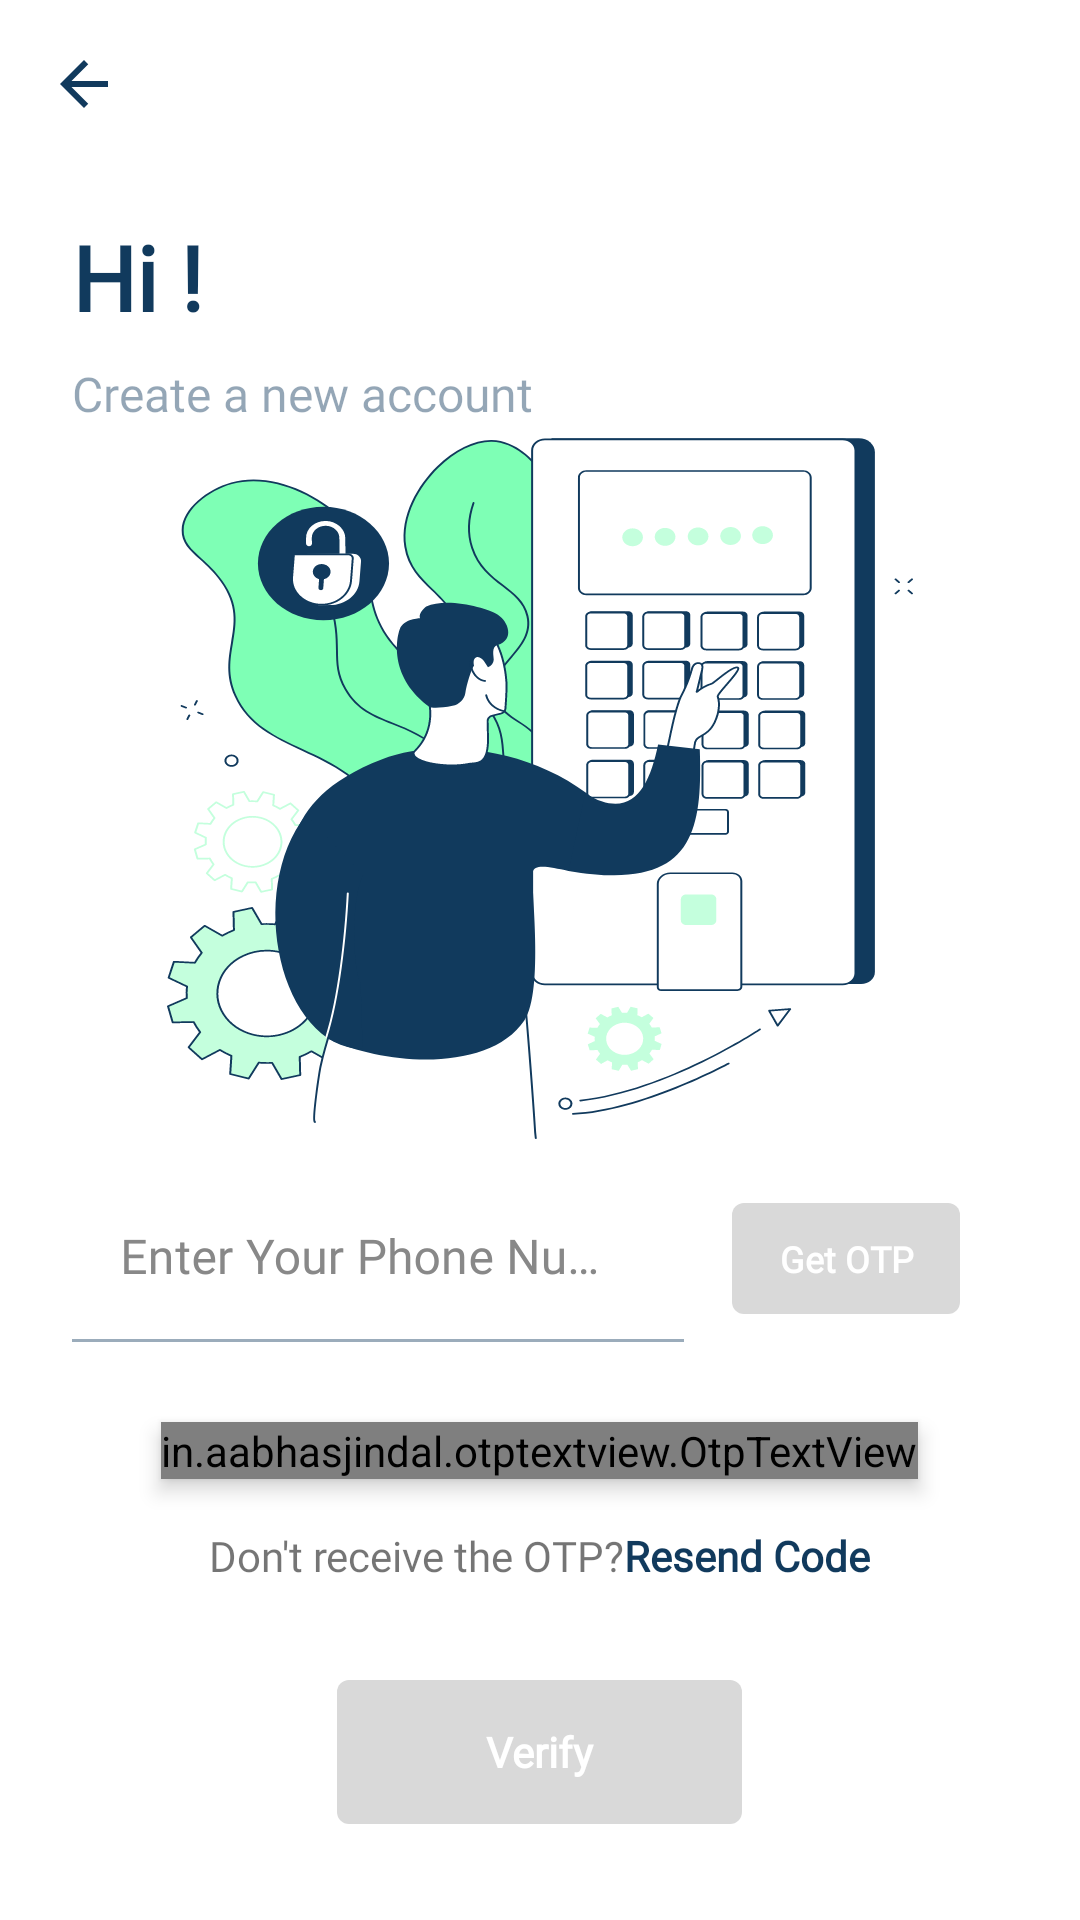

Icon bounding boxes for this 1080w x 1920h phone screenshot, format [x1, y1, x2, y2]:
back arrow: [60, 60, 108, 108]
